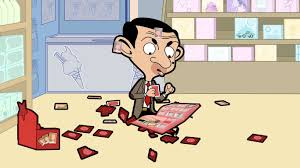mrbean: (111, 16, 185, 116)
